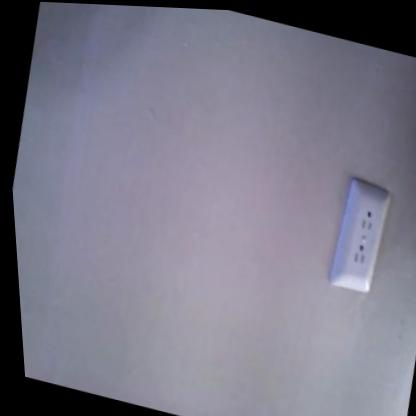OUTLET: (320, 173, 398, 297)
